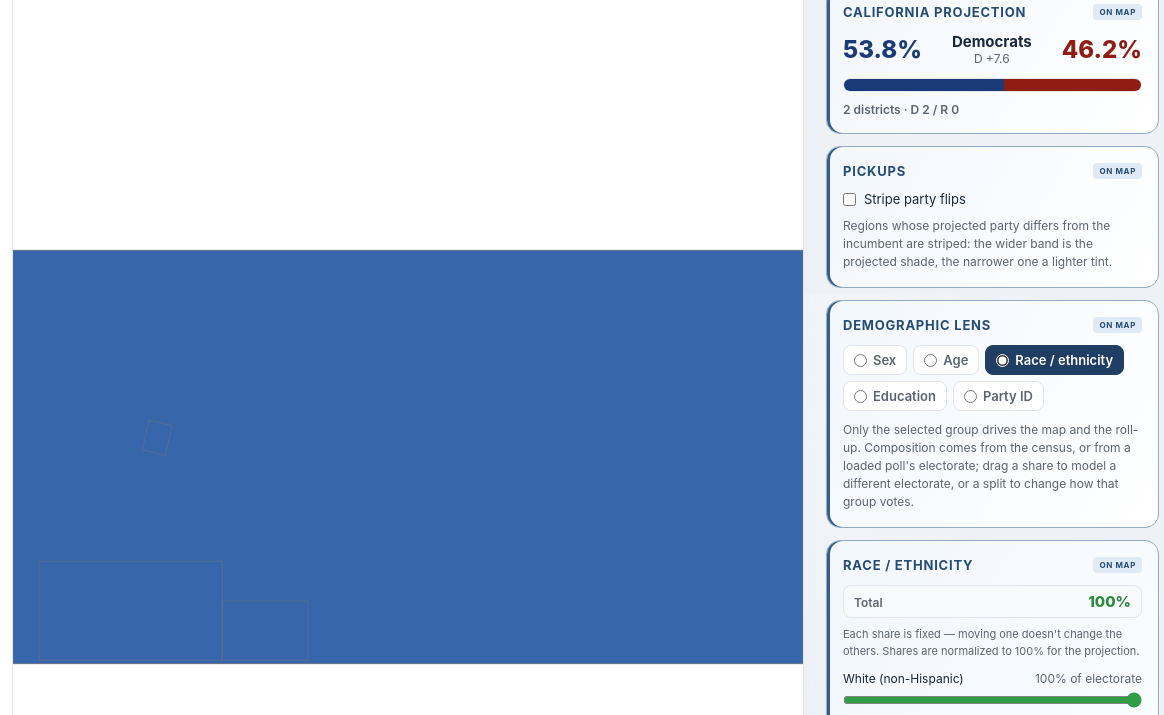
Scenario: StateAnalyzer › shows only one dimension's controls and swaps them on selection
The image size is (1164, 715).
(page scrolled)
Click the radio button labelled "Sex": click(860, 360) [854,354,867,366]
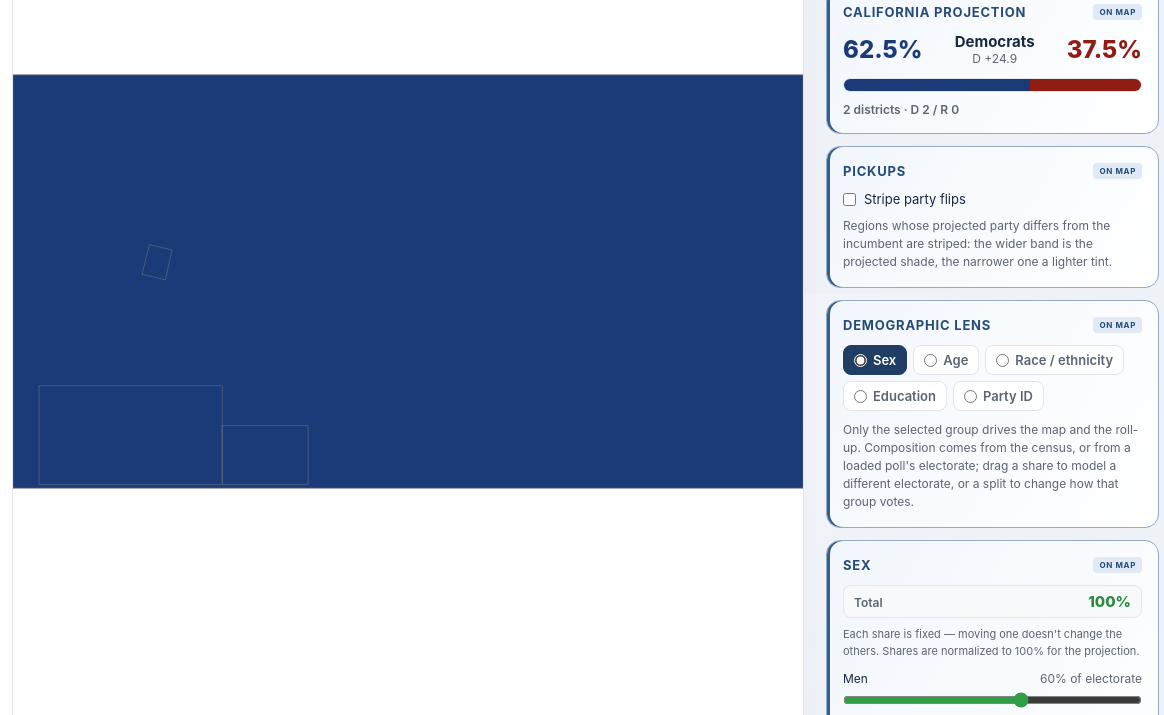
Expected: the number of sliders is 6
